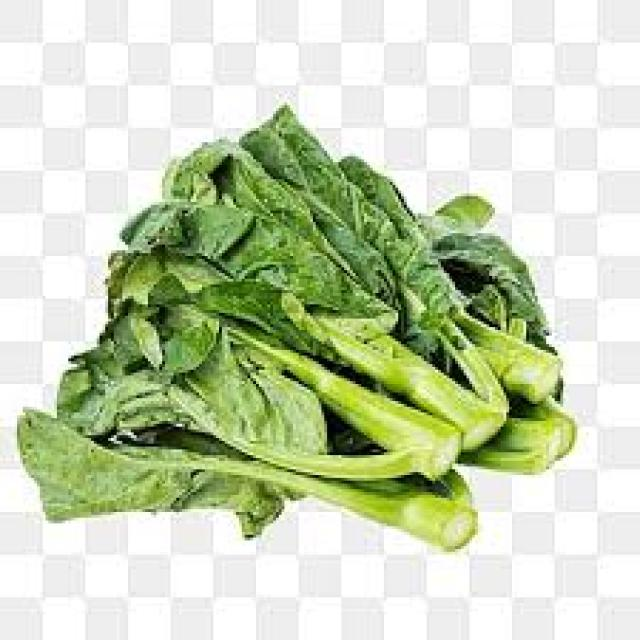collard: (19, 103, 578, 554)
